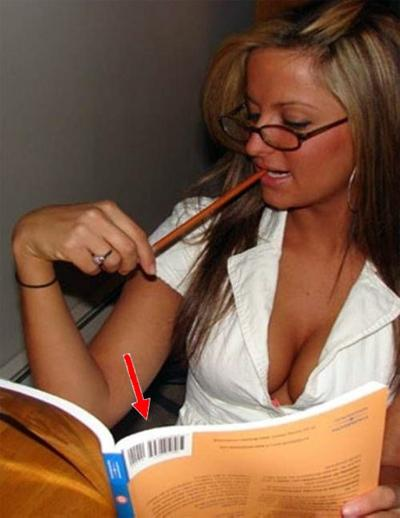person: (13, 7, 399, 518)
